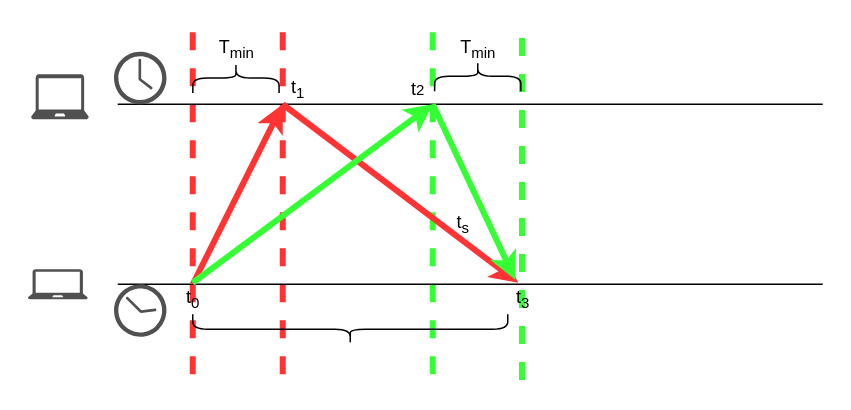
This 851x410 diagram has some shape labels left out. Each missing label, with the centre of its shape:
"Cliente" belongs at (57,283).
"Servidor" belongs at (59,96).
